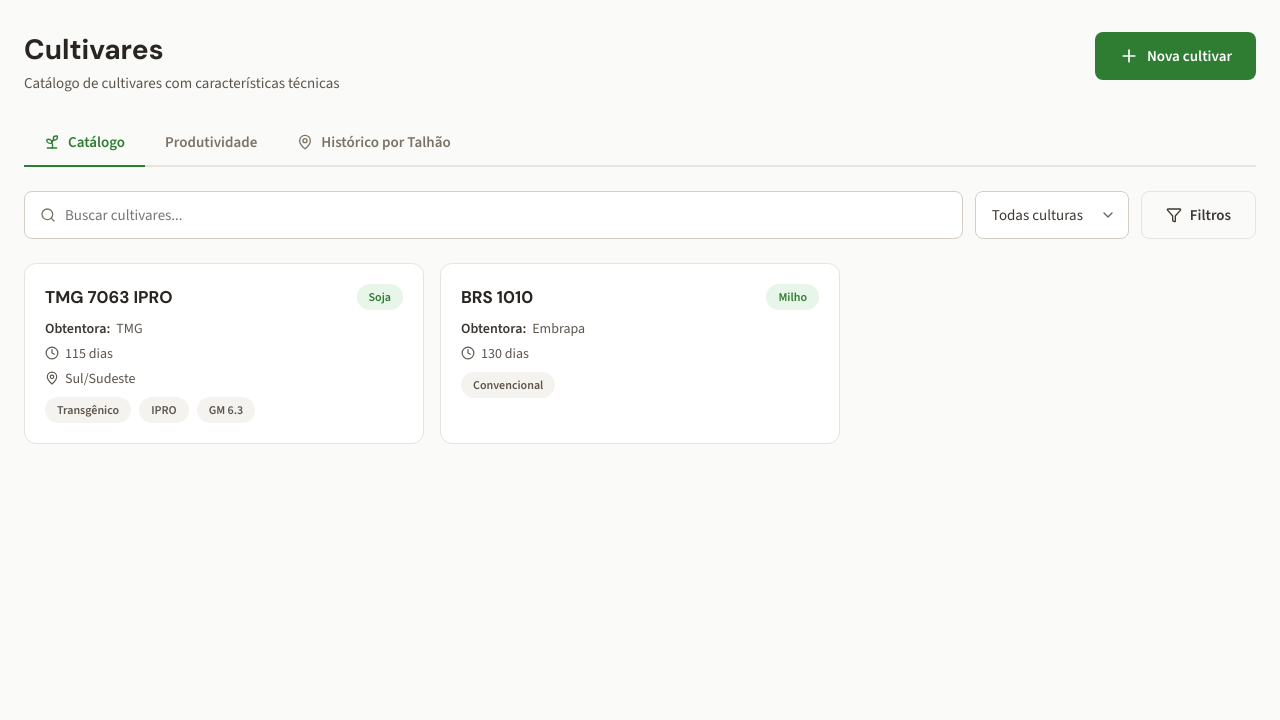
CultivarsPage › should toggle advanced filters panel (CA7)
The image size is (1280, 720).
Expected: the field labelled "Tipo" is not shown
Click the button "Filtros": click(1198, 215) [1141, 191, 1256, 239]
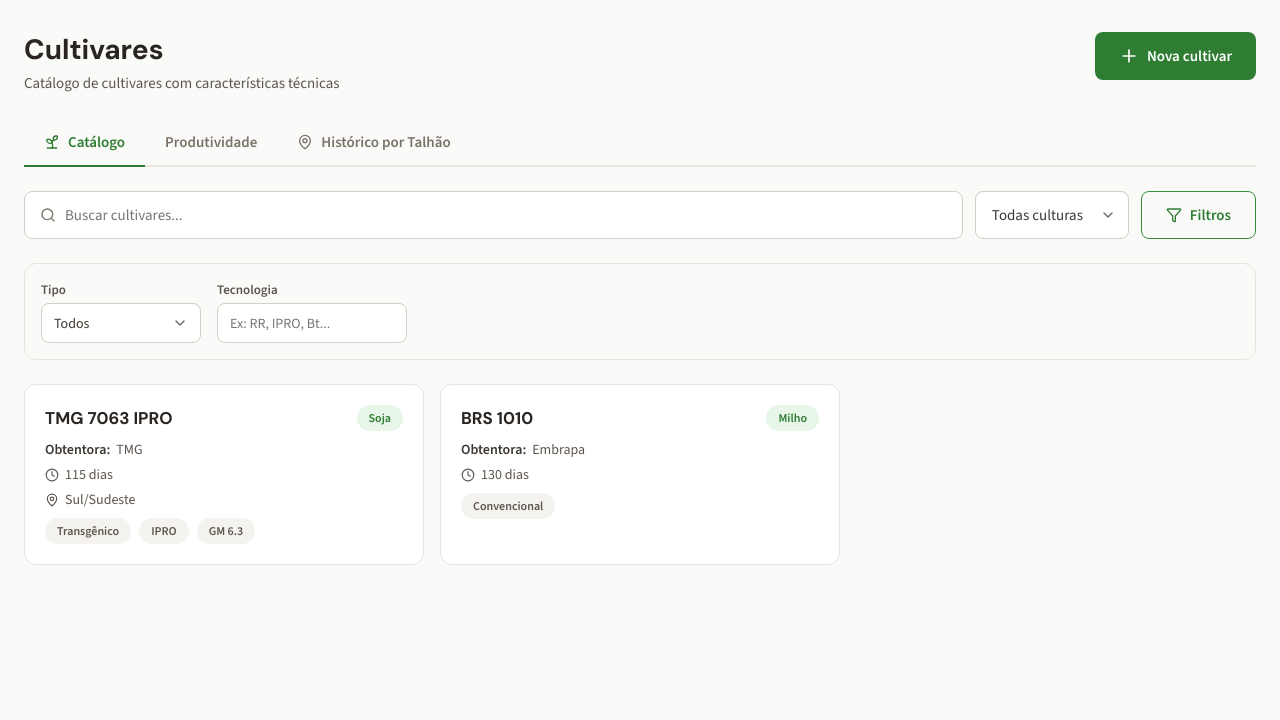
Now the dropdown labelled "Tipo" is shown, box [41, 303, 201, 343]
Now the field labelled "Tecnologia" is shown, box [217, 303, 407, 343]
